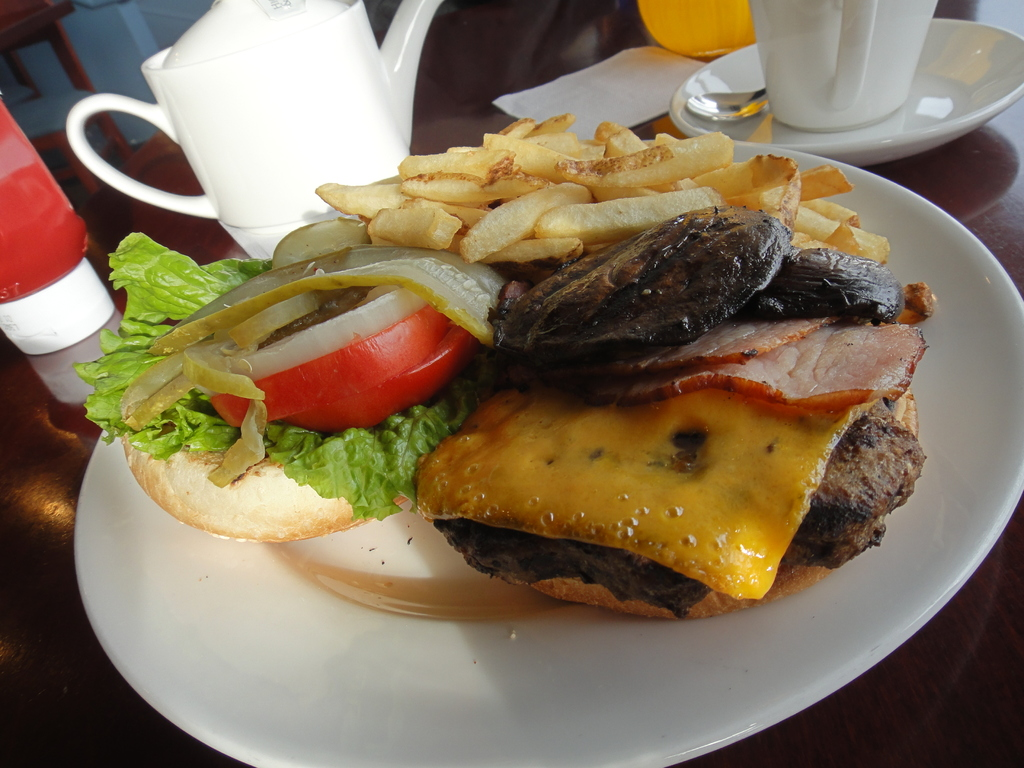French fries: (299, 114, 819, 332)
